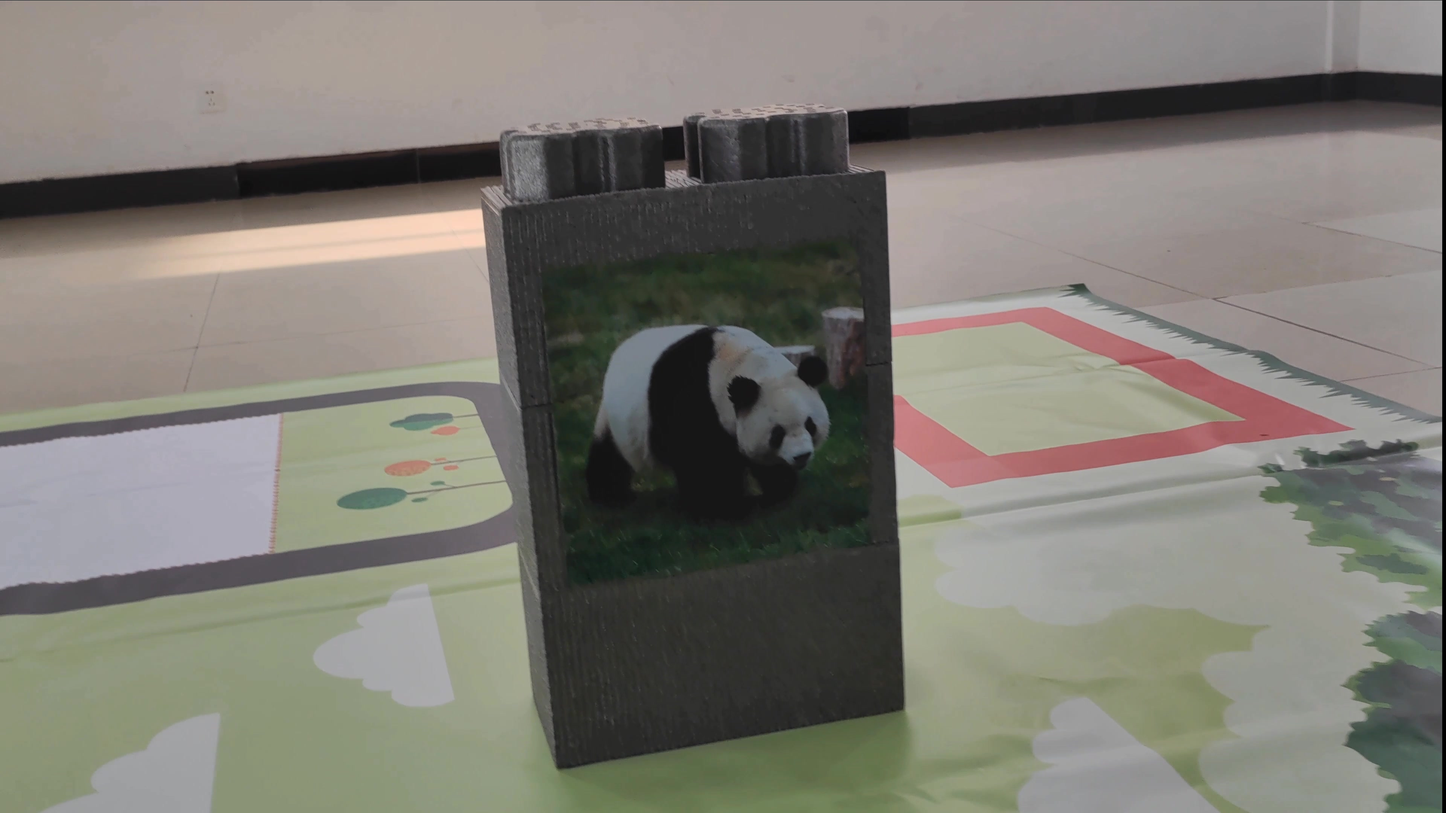panda: (573, 299, 877, 542)
